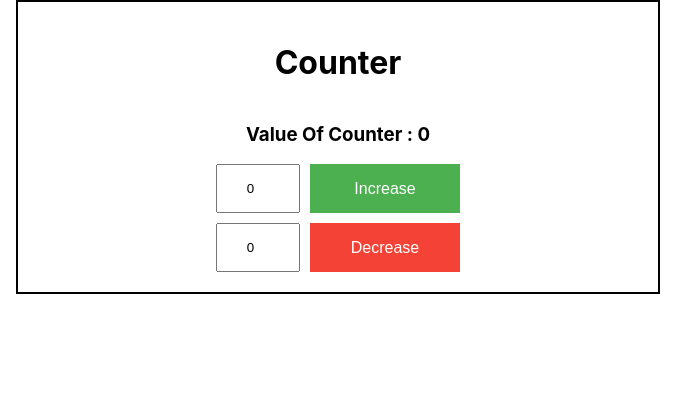
template spec › should decrease the counter when the decrease button is clicked
The width and height of the screenshot is (677, 409).
Type "3" into the 2nd number field.
click(258, 248); type("3")  # box [216,223,300,272]
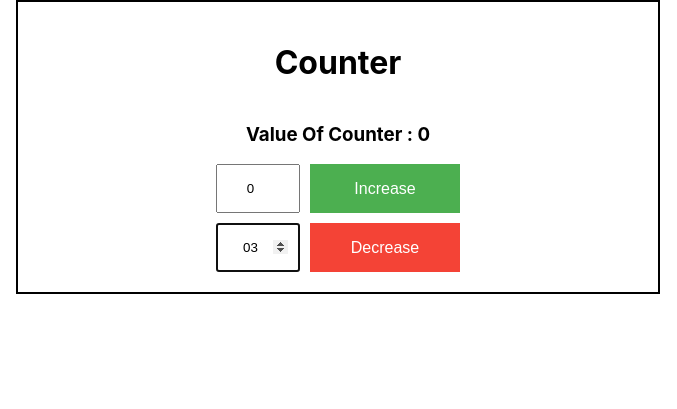
Click the button with class "button_dec".
click(385, 248)  # box [310,223,460,272]
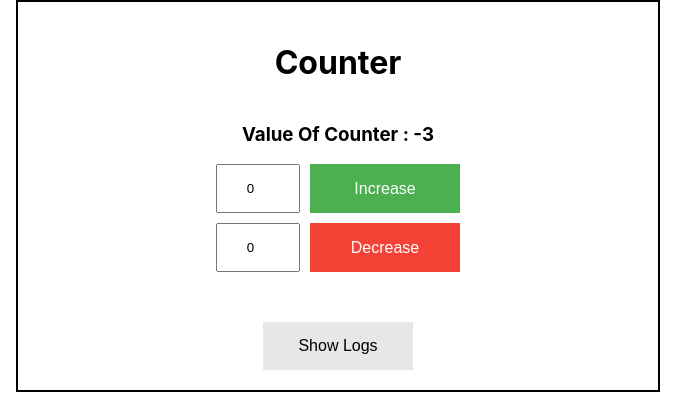
Check: the heading "Value Of Counter : -3" is shown, box [242,123,434,146]
